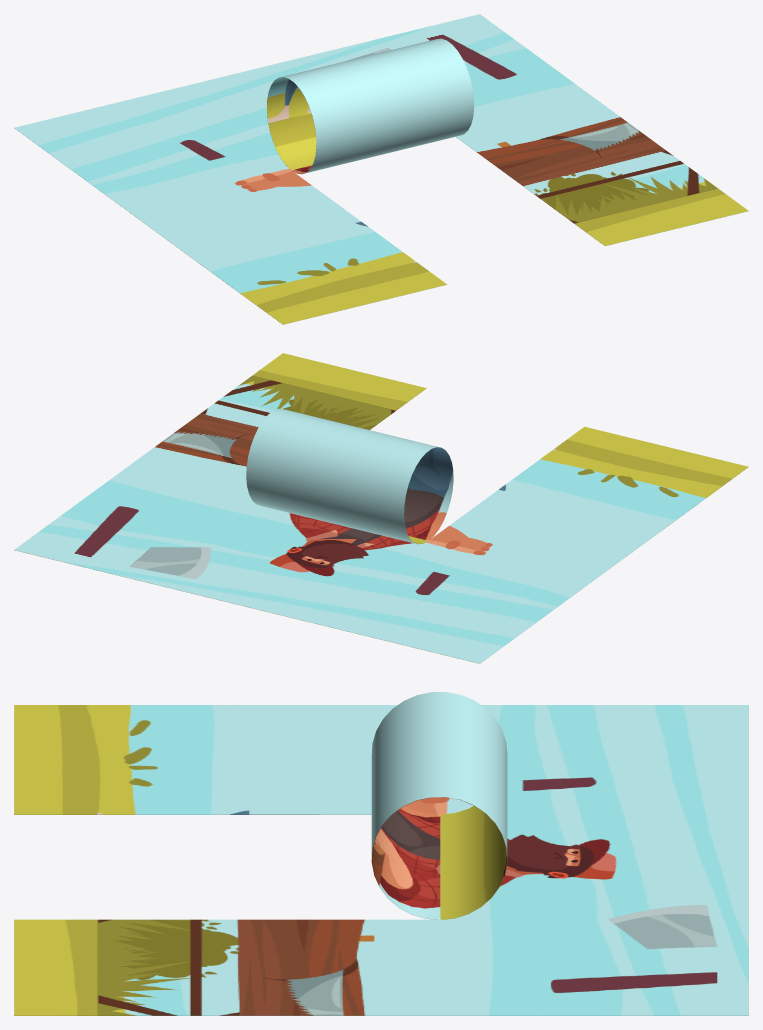
Rendered from Level 33.fbx.
The picture shows the model from 3 angles, top to bottom: view 1: azimuth 30°, elevation 25°; view 2: azimuth 150°, elevation 25°; view 3: azimuth 270°, elevation 25°; orthographic projection. The views are drawn at different scales.
Visible parts, largest first — view 1: Mesh, blendmesh3, blendmesh, blendmesh2; view 2: Mesh, blendmesh3, blendmesh, blendmesh2; view 3: Mesh, blendmesh3, blendmesh, blendmesh2.
Part boxes in pixels (x1,y1,x2,y2): Mesh: (14,14,748,324); blendmesh3: (267,38,474,174); blendmesh: (154,204,303,261); blendmesh2: (494,89,616,135); Mesh: (14,353,748,663); blendmesh3: (246,408,453,544); blendmesh: (513,503,662,561); blendmesh2: (116,449,238,496); Mesh: (14,705,748,1015); blendmesh3: (371,692,507,919); blendmesh: (249,705,366,776); blendmesh2: (374,956,469,1015).
Size of the model in its own units: 2400 by 443 by 2400.
